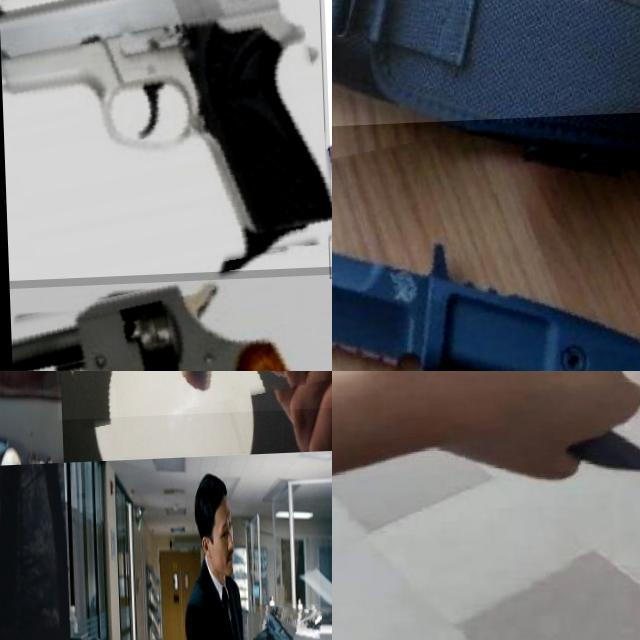-: (332, 114, 640, 371), (332, 371, 474, 457)
gun-knife-thesis - v11 Yolov5 augmented: (0, 0, 332, 289), (6, 269, 332, 371), (50, 371, 332, 483), (0, 371, 49, 473), (246, 609, 318, 640)
